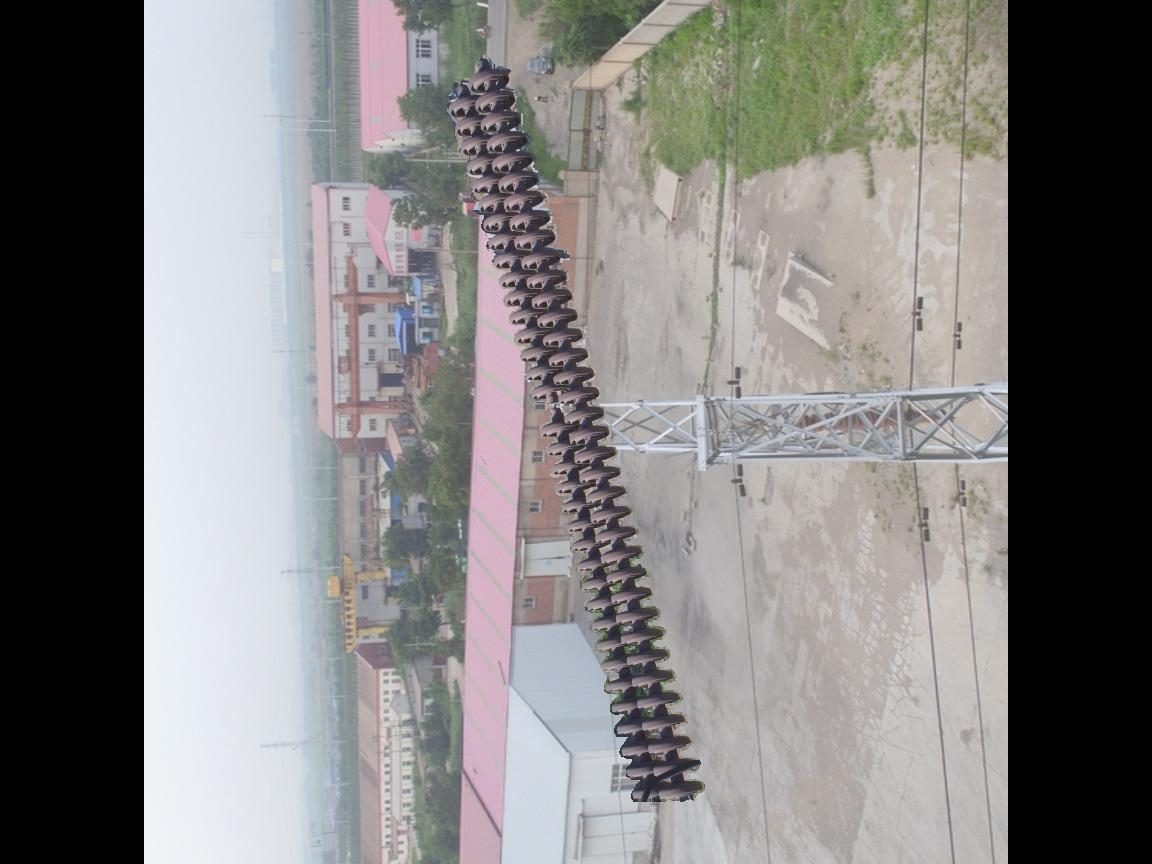insulator: (444, 62, 709, 814), (801, 401, 946, 435)
insulator_stringdrop: (528, 379, 577, 442)
